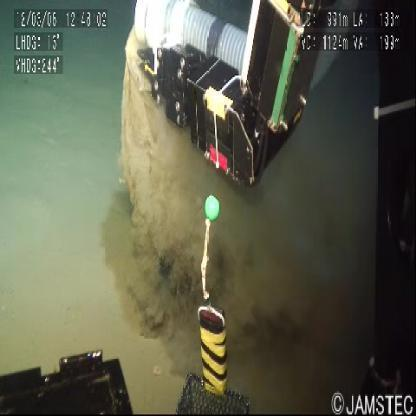Rác: (112, 17, 202, 295)
